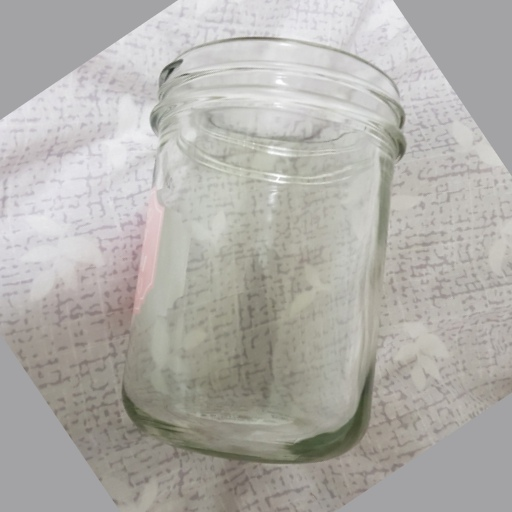Glass_5: (124, 39, 405, 466)
